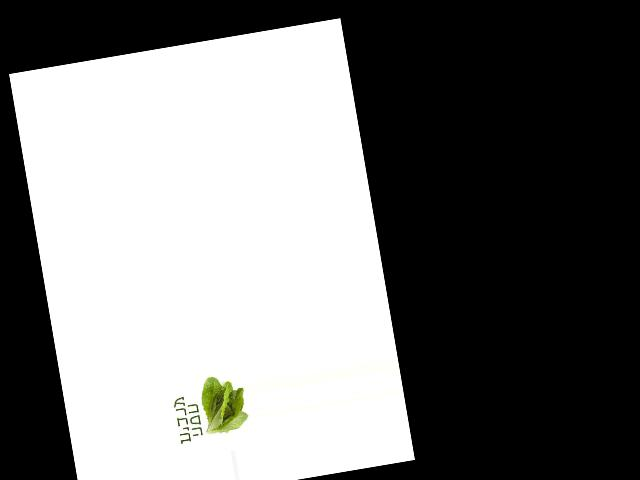lettuce: (192, 371, 250, 440)
